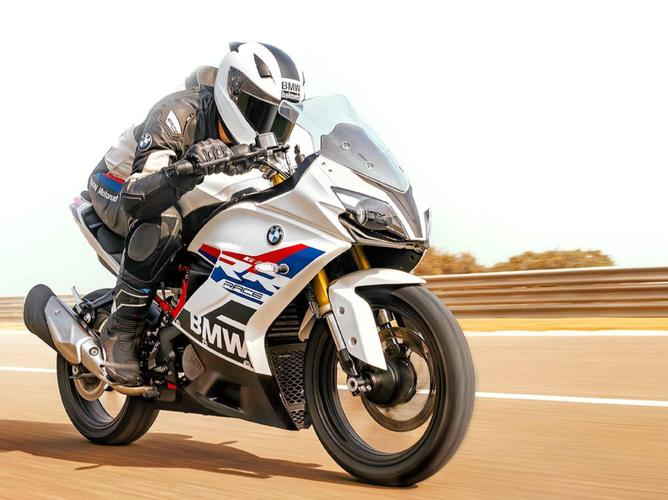摩托车: (14, 182, 480, 492)
